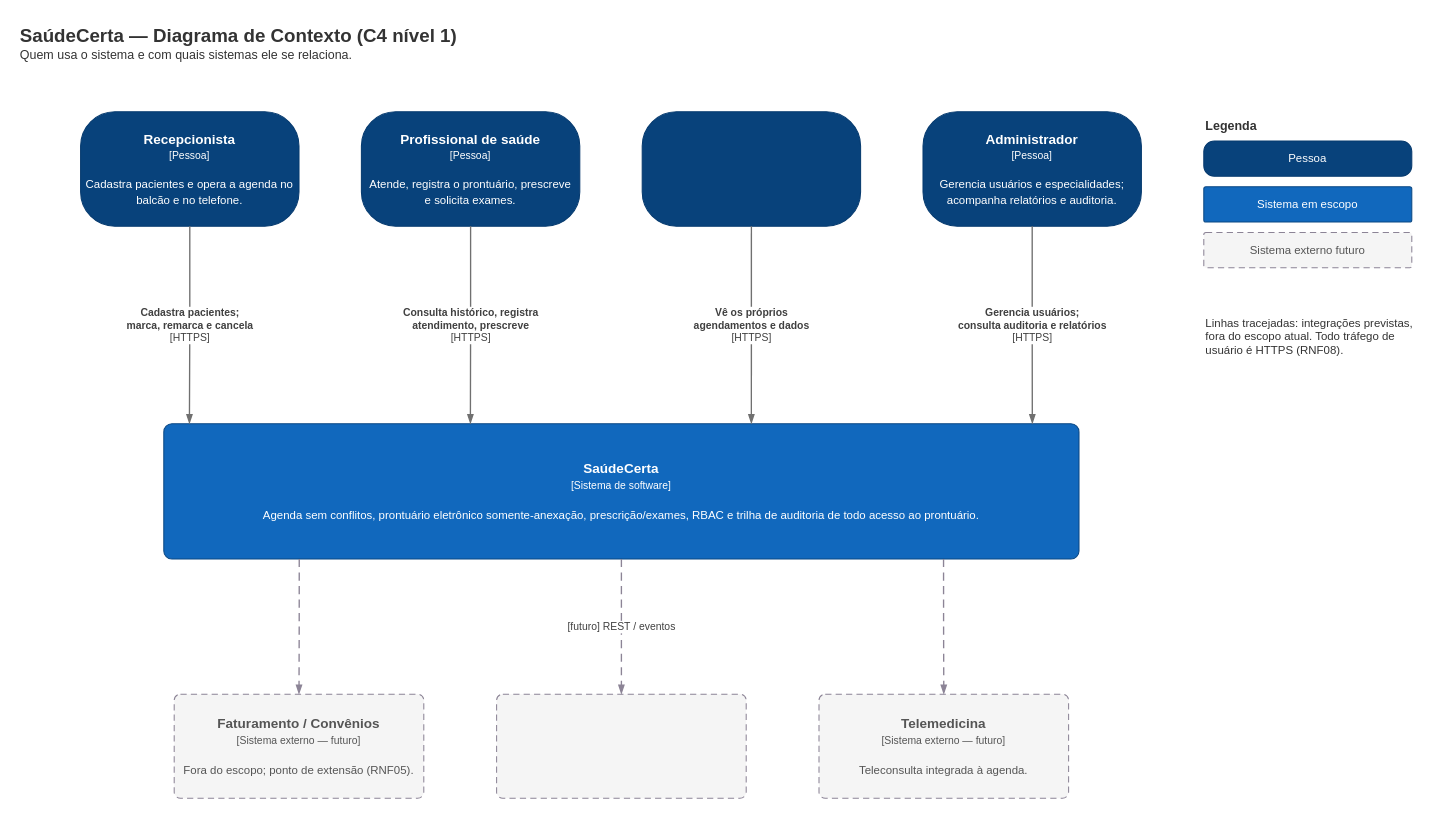
This 1450x816 diagram has some shape labels left out. The shapes that lost their labels are listed below. From the top down, each one's box as (x1, y1, x2, y2) in pixels, then its label:
(641, 111, 861, 226): Paciente [Pessoa] Consulta seus agendamentos e dados; solicita consultas.
(496, 693, 746, 798): Laboratórios [Sistema externo — futuro] Recebe solicitações e devolve laudos.
